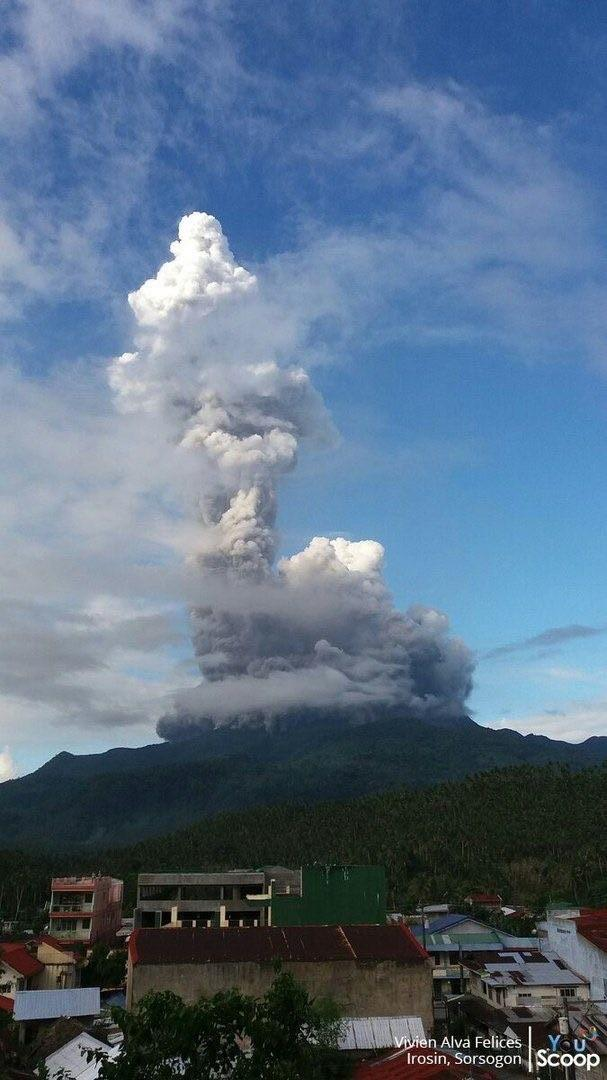smoke: (97, 241, 539, 880)
